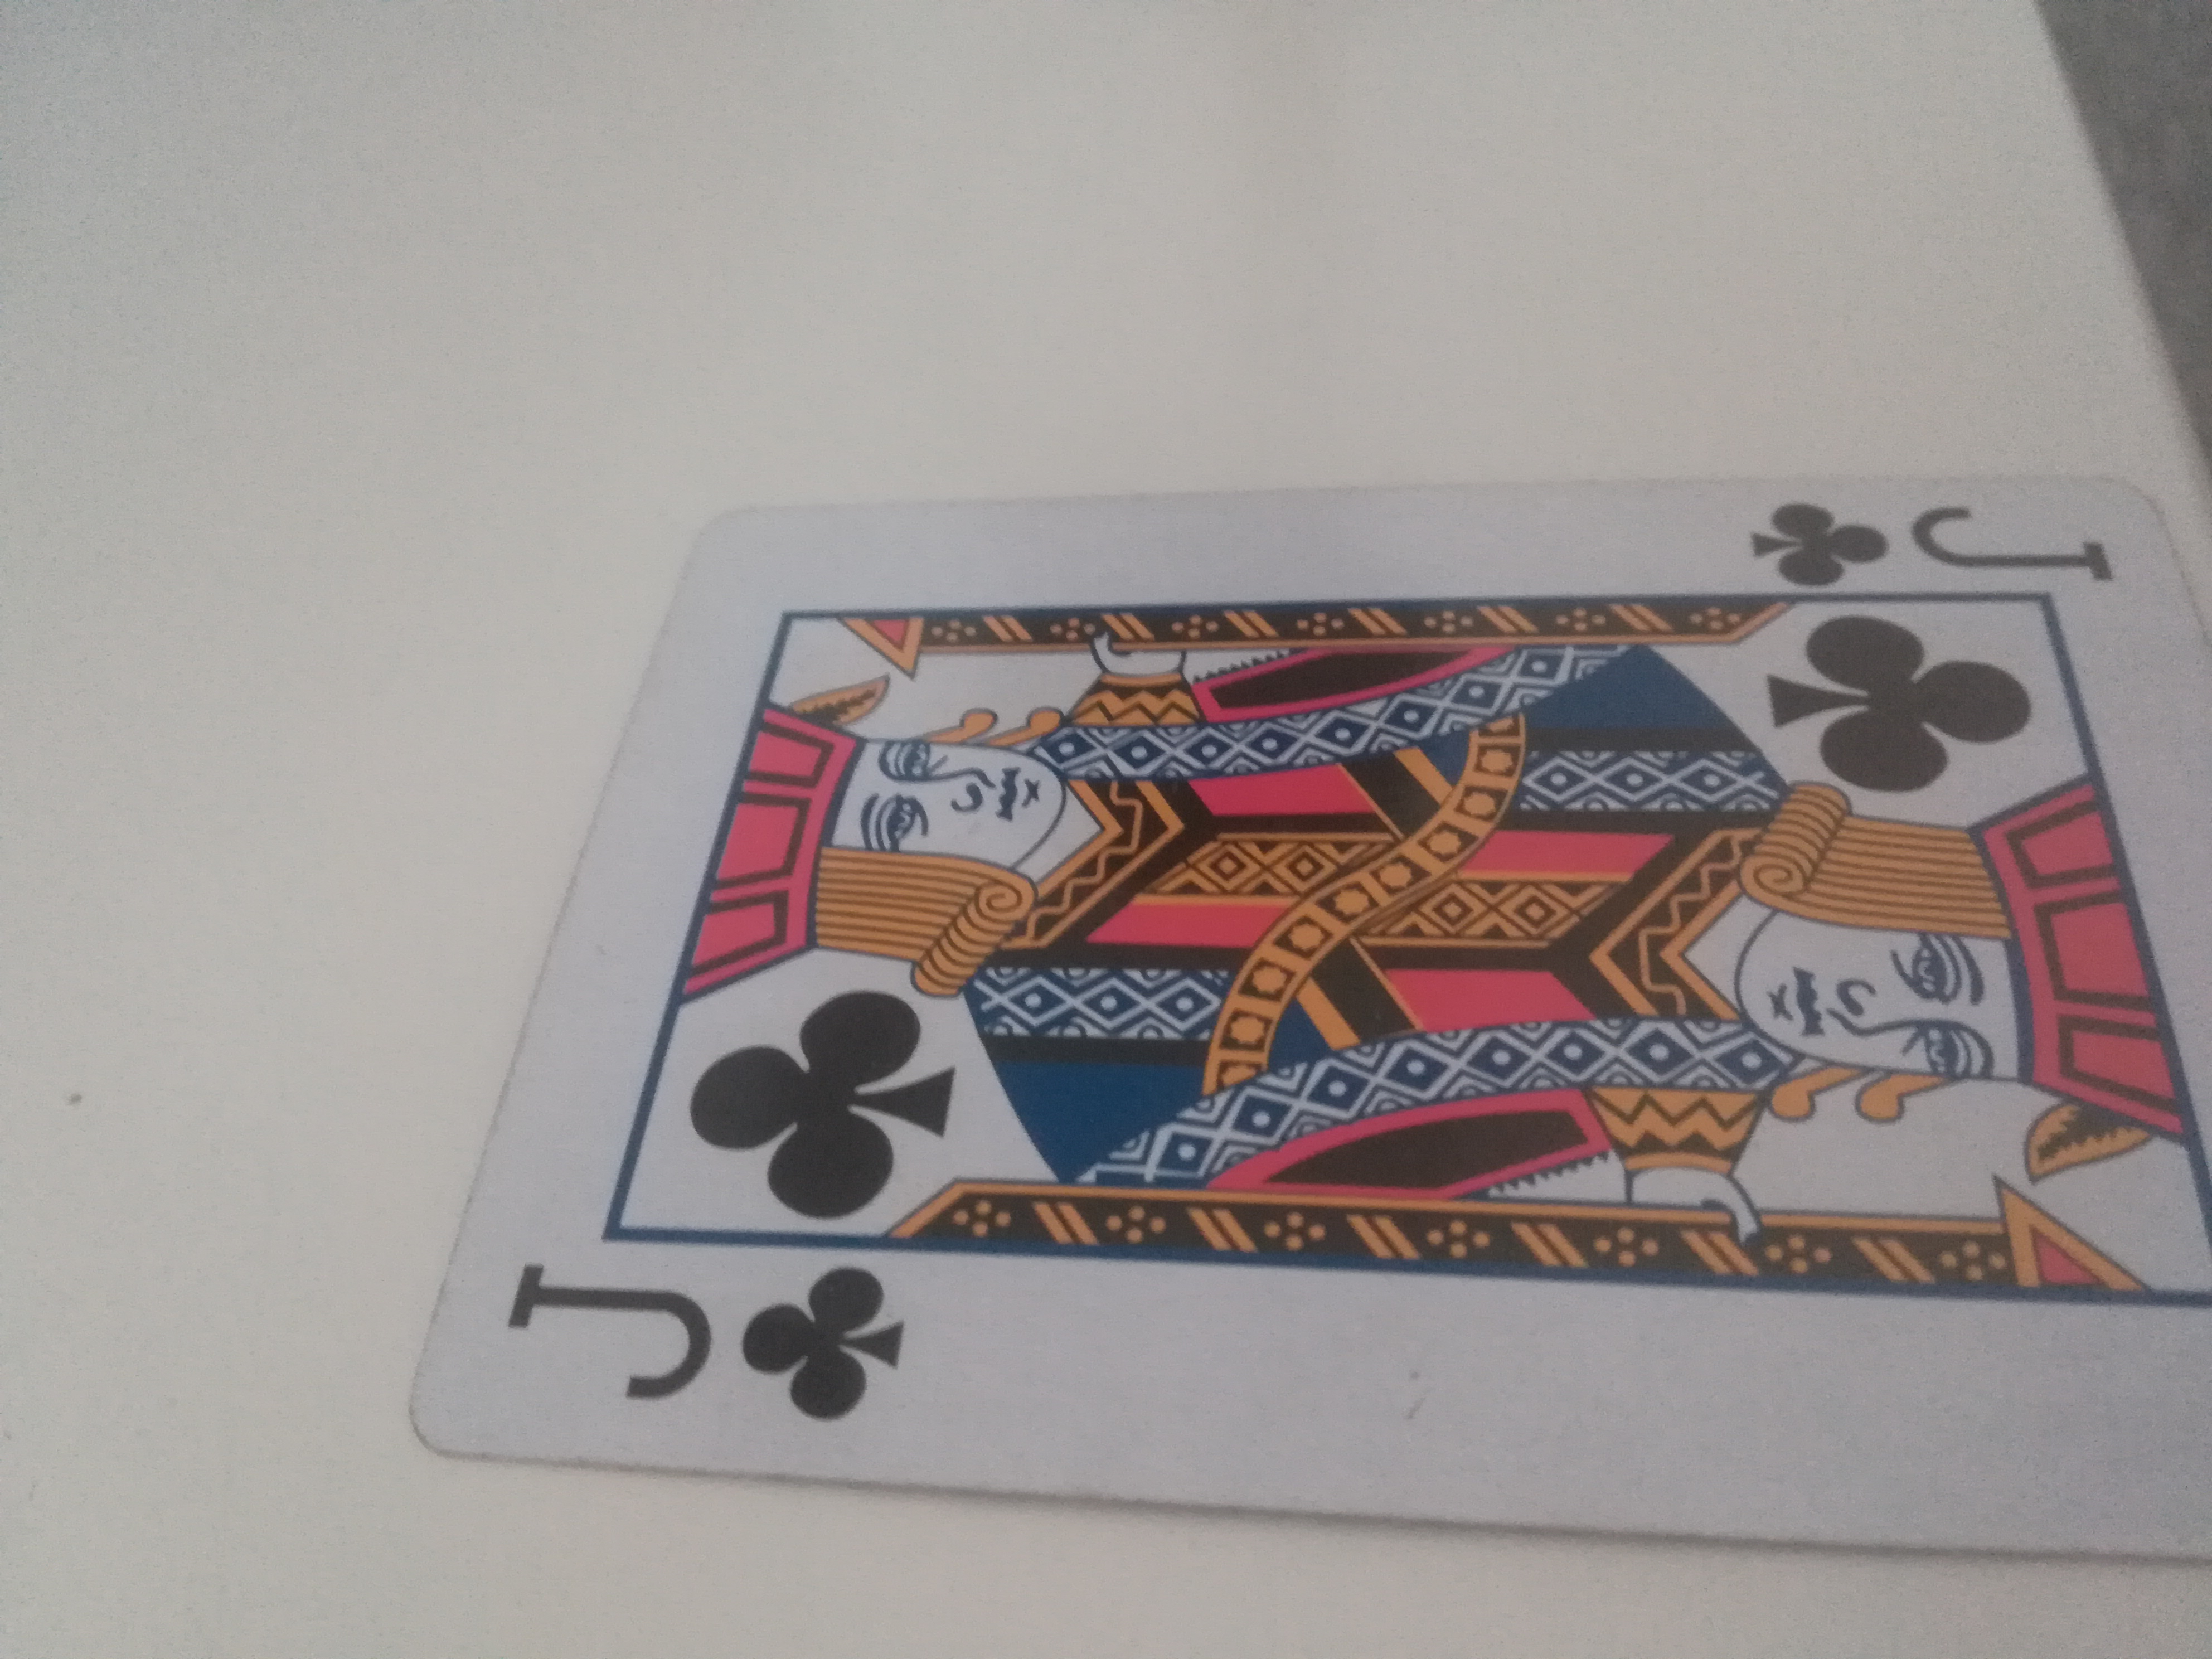JC: (416, 491, 2212, 1544)
